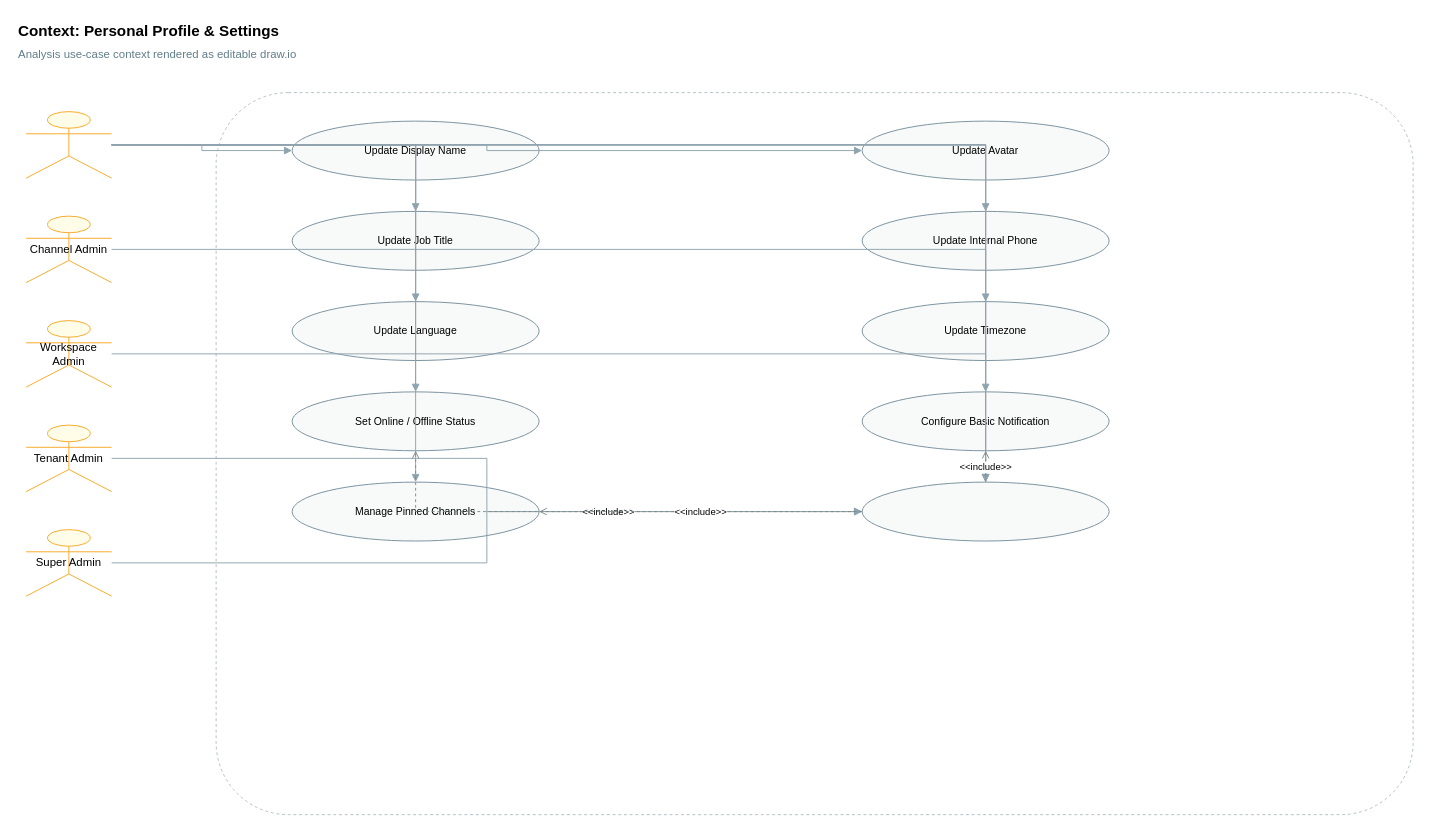
Image size: 1430x831. Some labels were removed from this diagram. The centre of each missing label's shape, as x and y in pixels:
Manage Basic Personal Preferences: point 985,511
Member: point 68,144
